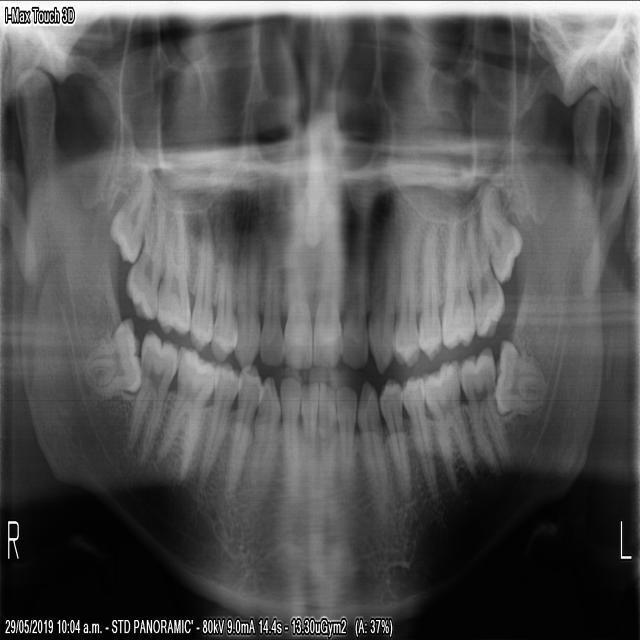LCD: (357, 379, 390, 505)
LCU: (367, 219, 402, 377)
LID: (318, 383, 338, 499), (338, 385, 358, 495)
LIU: (340, 224, 372, 370), (313, 218, 343, 373)
LMD: (422, 359, 479, 497), (460, 343, 513, 477), (493, 335, 546, 415)
LMU: (465, 205, 506, 340), (478, 184, 525, 292), (439, 213, 474, 350)
LPMD: (400, 375, 441, 499), (380, 378, 412, 495)
LPMU: (393, 204, 427, 369), (419, 215, 442, 360)
RCD: (249, 373, 279, 508)
RCU: (232, 235, 261, 373)
RID: (279, 377, 300, 498), (299, 375, 319, 482)
RIU: (283, 223, 313, 373), (258, 238, 283, 367)
RMD: (155, 345, 215, 477), (123, 330, 176, 465), (86, 314, 141, 399)
RMU: (122, 192, 165, 332), (155, 197, 192, 337), (107, 174, 153, 269)
RPMD: (197, 364, 240, 487), (223, 369, 261, 498)
RPMU: (210, 225, 239, 360), (187, 223, 215, 355)
